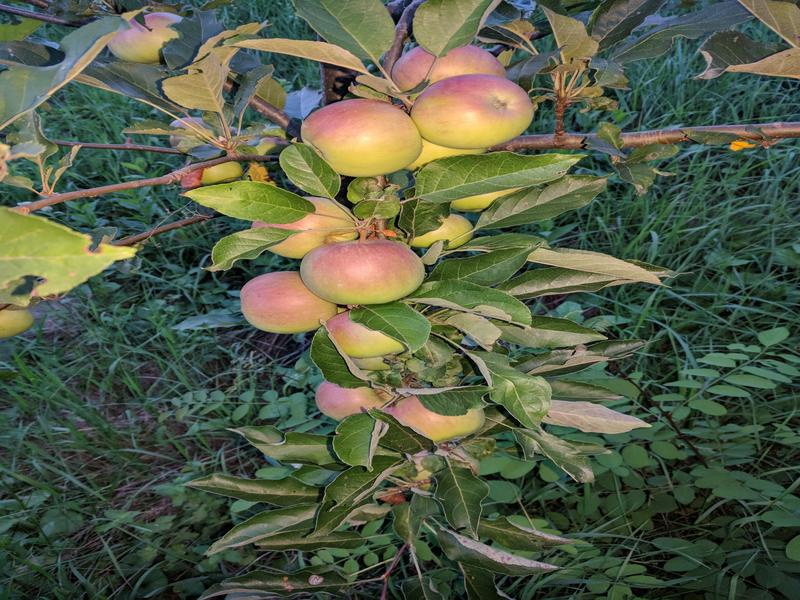apple: (409, 72, 541, 151), (299, 99, 424, 178), (298, 235, 433, 306), (236, 264, 348, 335)
